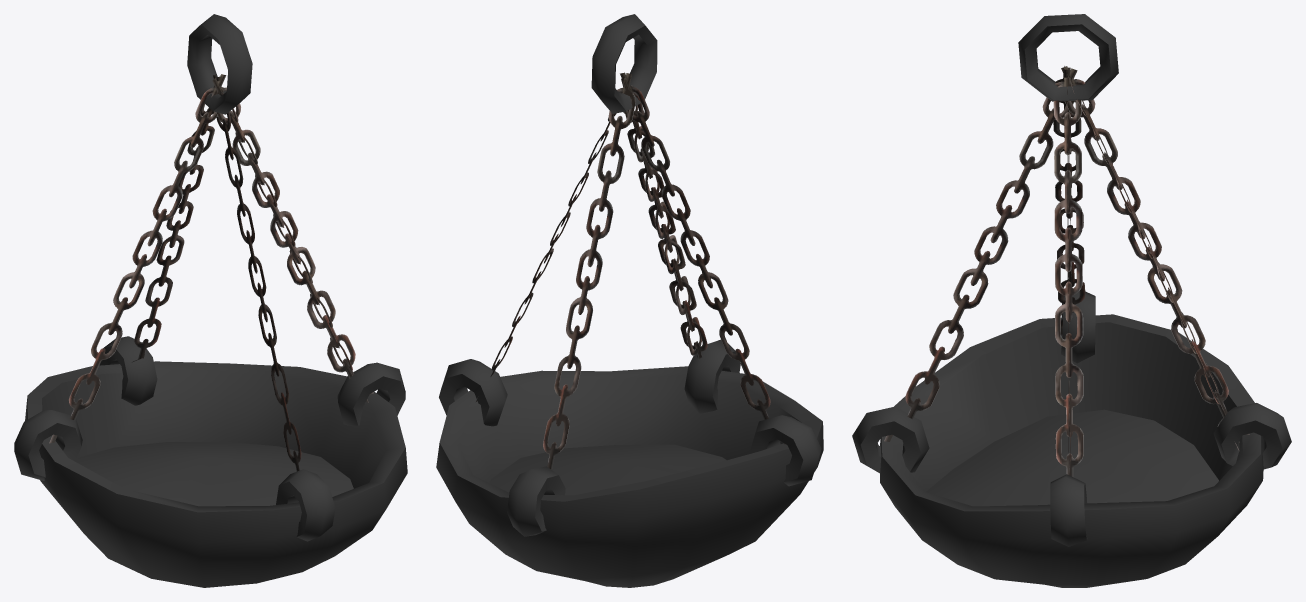
File: SM_PROP_brazier_04.FBX
3 renders of one model, left to right at view 1: azimuth 30°, elevation 25°; view 2: azimuth 150°, elevation 25°; view 3: azimuth 270°, elevation 25°, orthographic. The views are drawn at different scales.
Parts seen in each view (by area): view 1: SM_PROP_brazier_04; view 2: SM_PROP_brazier_04; view 3: SM_PROP_brazier_04.
Boxes of the visible parts, x1=… form: SM_PROP_brazier_04: x1=14, y1=14, x2=407, y2=587; SM_PROP_brazier_04: x1=436, y1=14, x2=823, y2=587; SM_PROP_brazier_04: x1=852, y1=14, x2=1291, y2=587.
Size of the model in its own units: 90.37 by 87.4 by 122.
